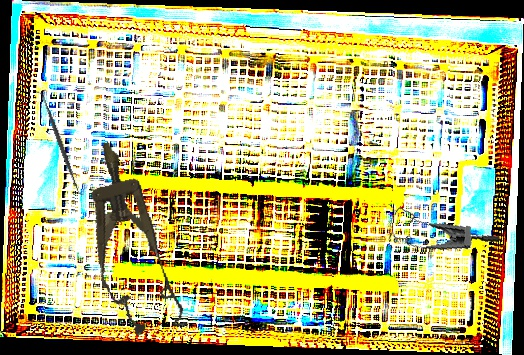Spatula Surgical: (34, 87, 86, 199)
Speculum: (69, 133, 190, 343), (382, 189, 502, 264)
